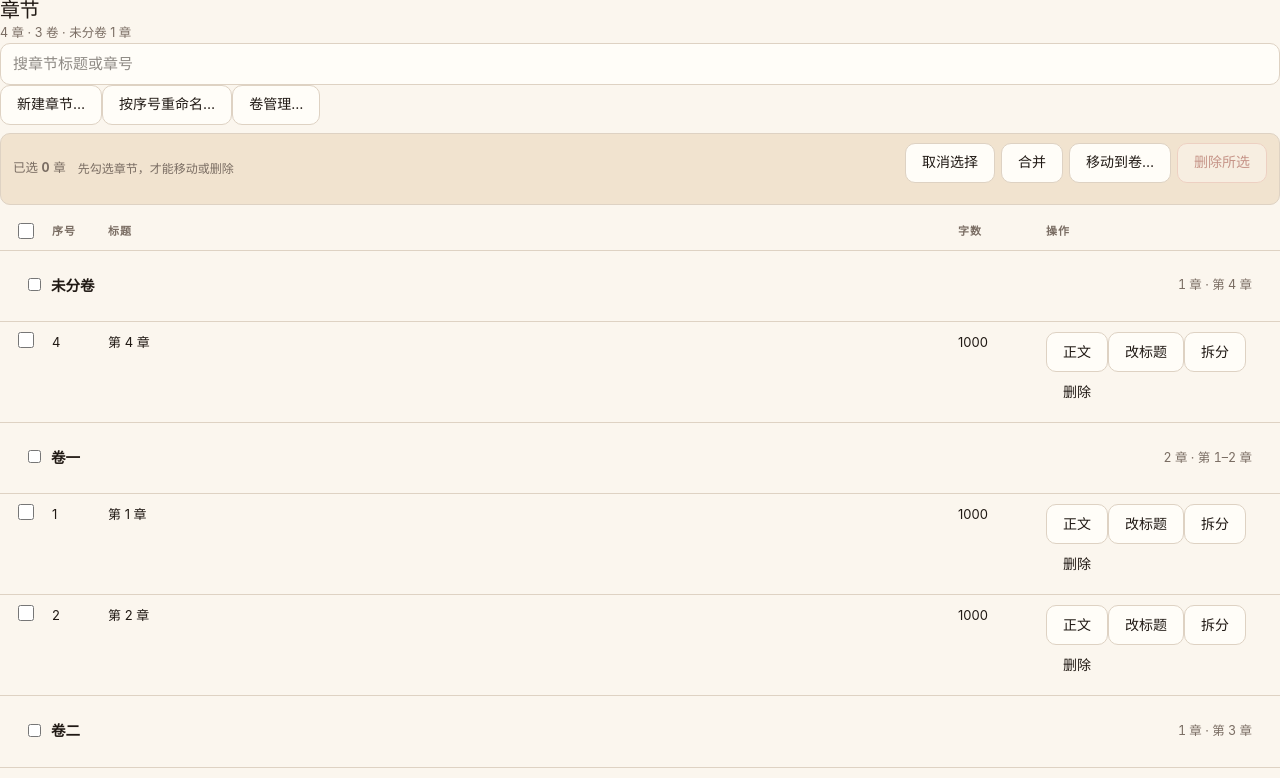
Scenario: 章节区的卷入口 › 工具栏「卷管理…」打开卷管理弹窗，并列出真实卷数
Expected: the text with test id "admin-chapters-meta" shows "3 卷 · 未分卷 1 章", [0,25,131,40]
What coordinates should you click on to do the following:
click the button with test id "admin-volume-manage-open"
I would click on:
 (276, 104)
Its box is [232,84,320,124].
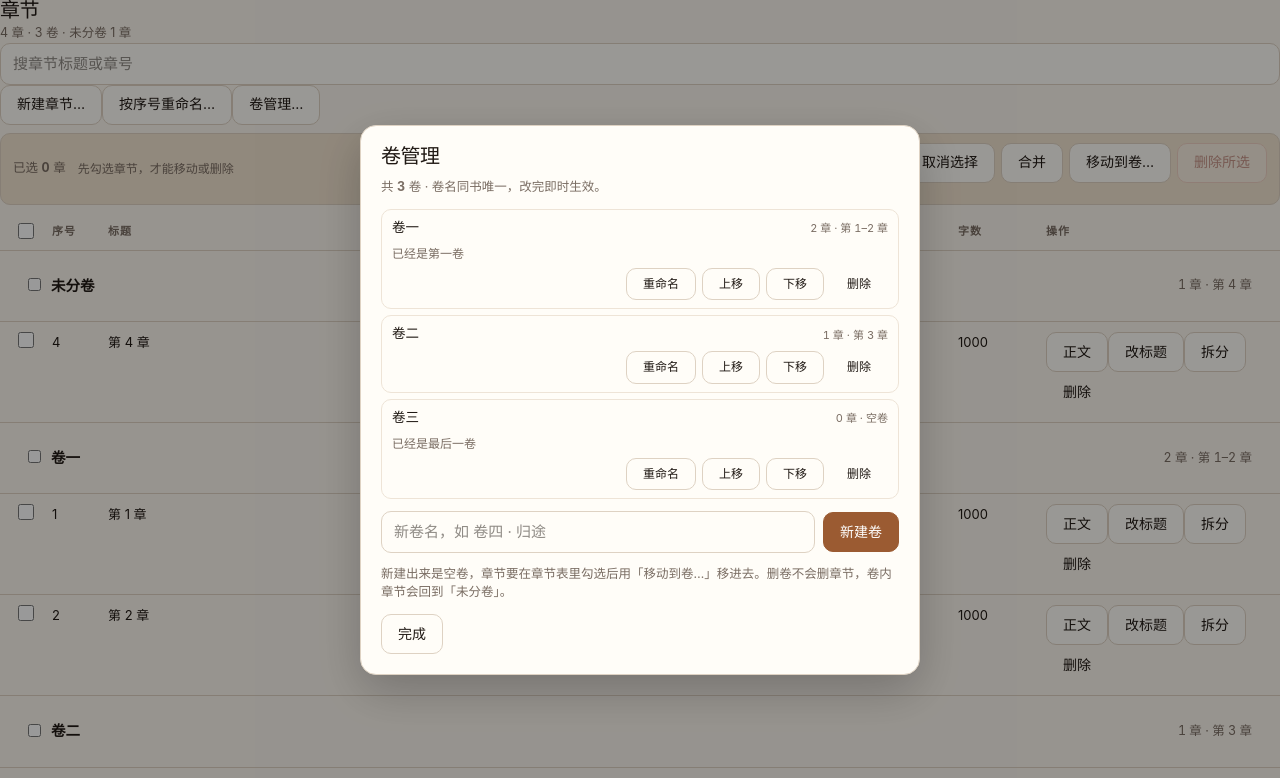
Now the dialog with test id "volume-manage-dialog" is shown, box [360,125,920,675]
